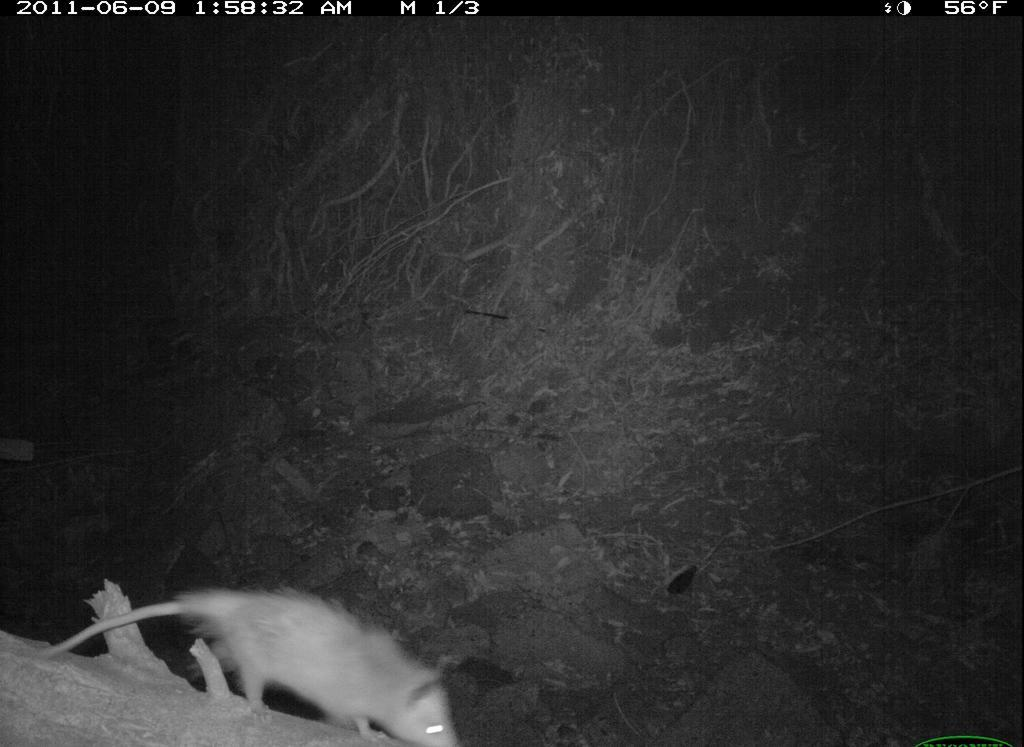opossum: (24, 570, 470, 747)
